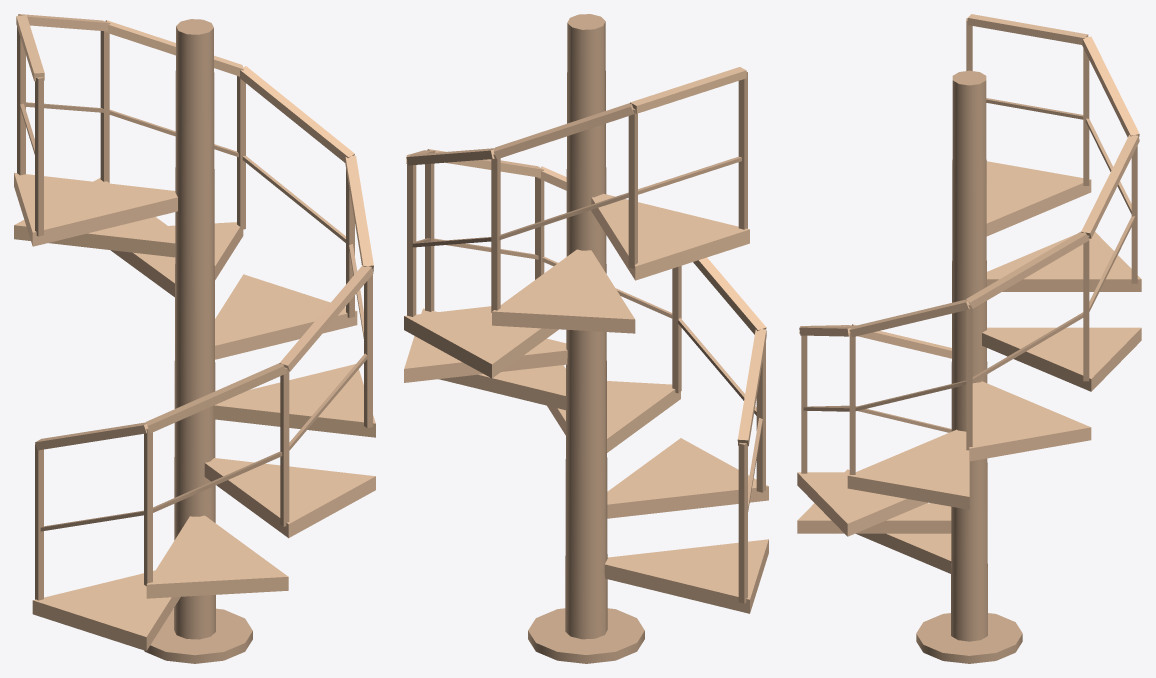
File: stairSpiralWood.glb
3 views of the same model, side by side, from view 1: azimuth 30°, elevation 25°; view 2: azimuth 150°, elevation 25°; view 3: azimuth 270°, elevation 25° (orthographic). The views are drawn at different scales.
Parts seen in each view (by area): view 1: stairSpiralWood; view 2: stairSpiralWood; view 3: stairSpiralWood.
Part boxes in pixels (left/top/right/bottom): stairSpiralWood: left=14, top=14, right=375, bottom=663; stairSpiralWood: left=404, top=14, right=768, bottom=663; stairSpiralWood: left=797, top=14, right=1141, bottom=663.
Bounding box in the file's own units: 0.97 × 1.75 × 0.97.
